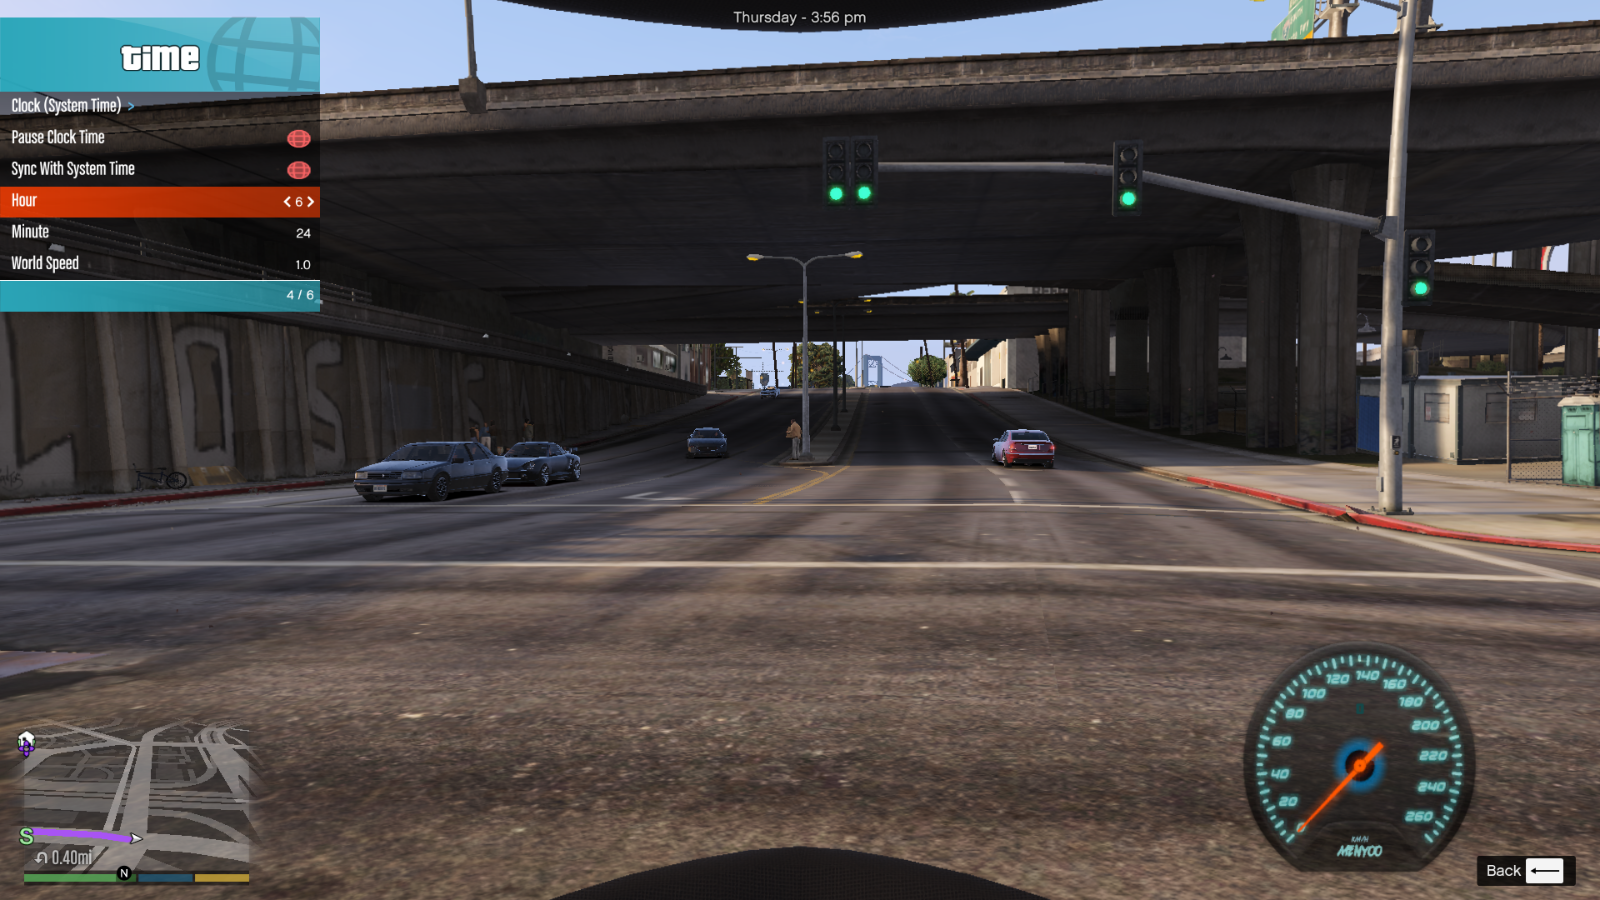green: (1110, 136, 1147, 219), (1405, 229, 1437, 312), (849, 134, 882, 208), (820, 137, 851, 210)
